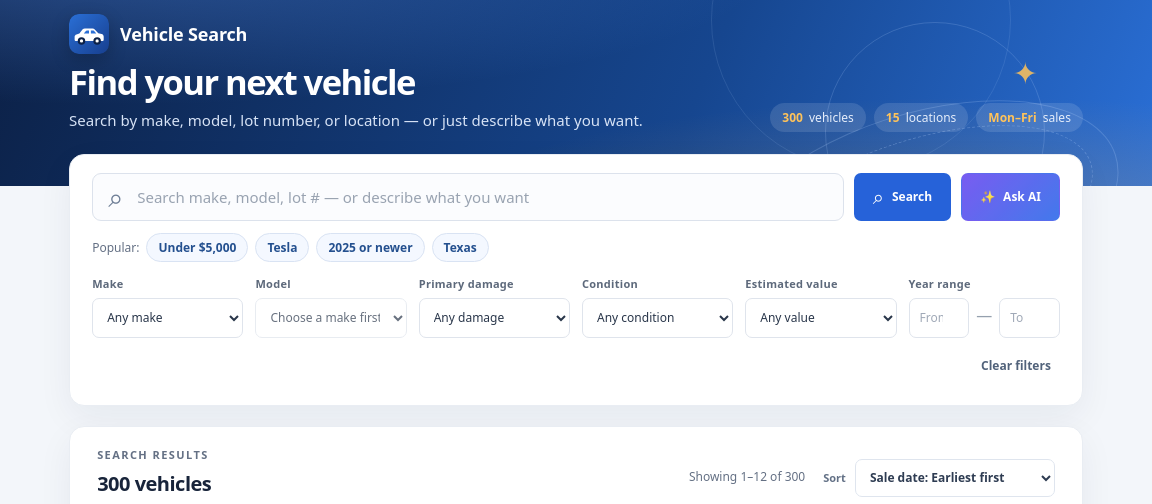
Scenario: vehicle search interactions › uses the AI filters and automatically runs the existing vehicle search
The image size is (1152, 504).
Expected: the heading "300 vehicles" is shown, x1=97 y1=470 x2=211 y2=497
Type "Toyota under $20,000 near Dallas" into the search field named "search by vehicle" at (482, 197), box x1=135 y1=186 x2=828 y2=208
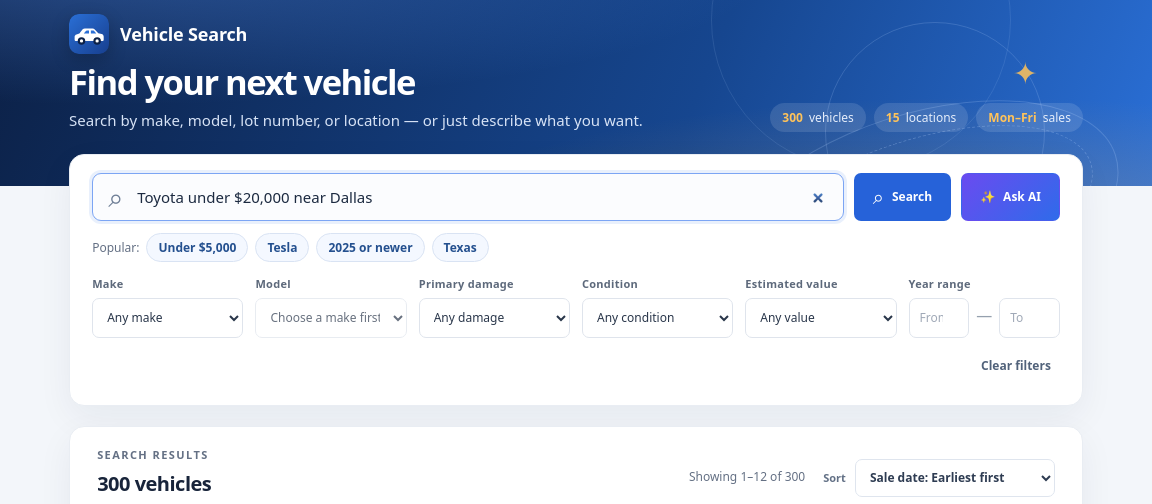
Click the button "✨ Ask AI" at (1010, 197), box x1=961 y1=173 x2=1060 y2=221
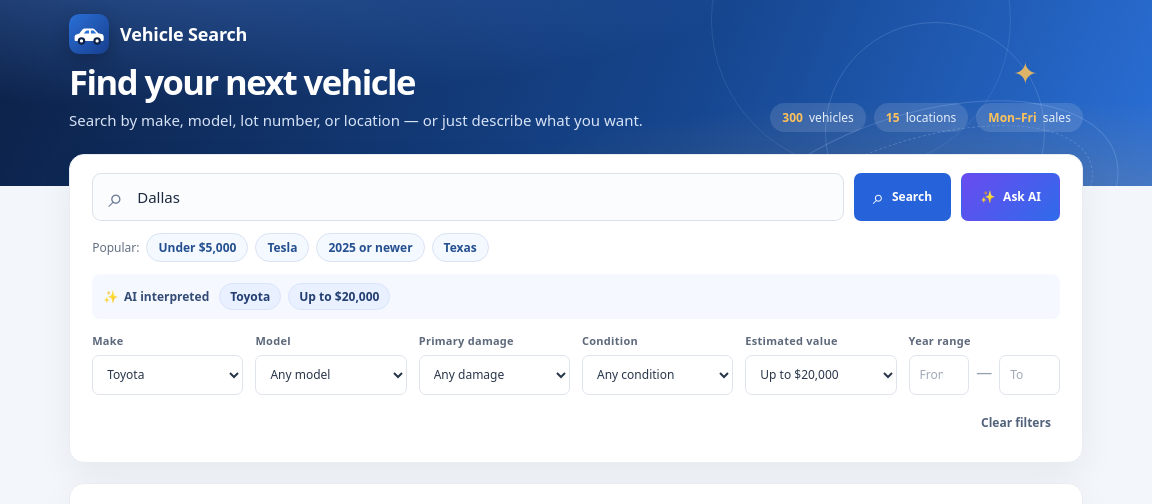
Expected: the text "Toyota" is shown, x1=219 y1=283 x2=281 y2=310
Expected: the search field named "search by vehicle" holds "Dallas", x1=135 y1=186 x2=828 y2=208
Expected: the dropdown labelled "Make" shows "Toyota", x1=92 y1=355 x2=243 y2=395
Click the button with aria-label "Search vehicles" at (902, 197), box x1=854 y1=173 x2=951 y2=221
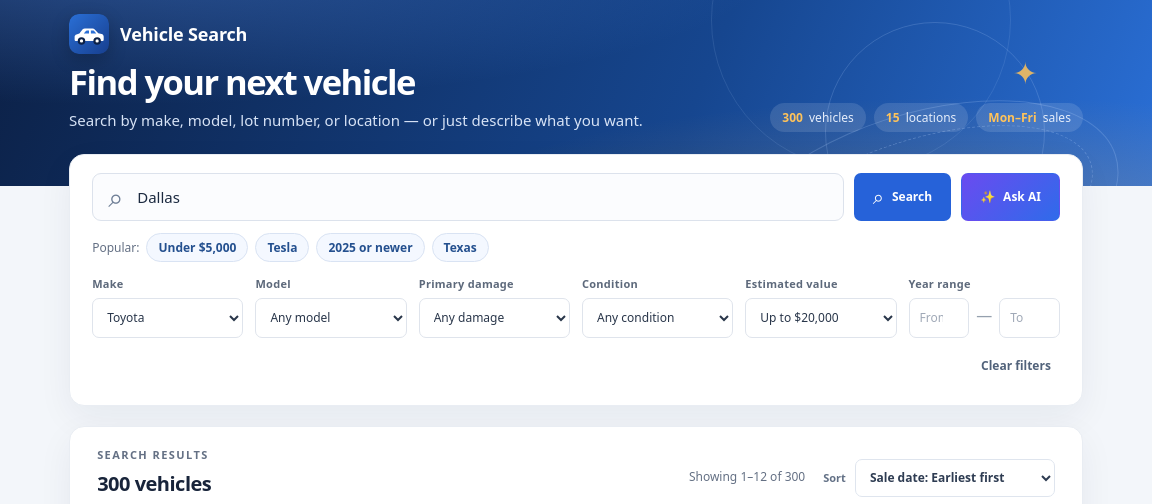
Click the button "Clear filters" at (1016, 365), box x1=972 y1=346 x2=1060 y2=385
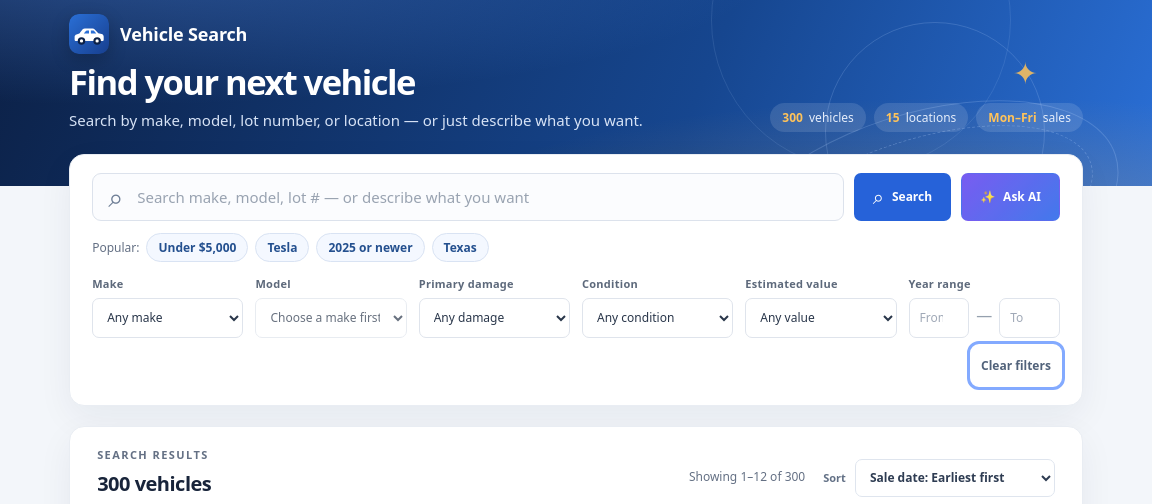
Expected: the search field named "search by vehicle" is empty, x1=135 y1=186 x2=828 y2=208
